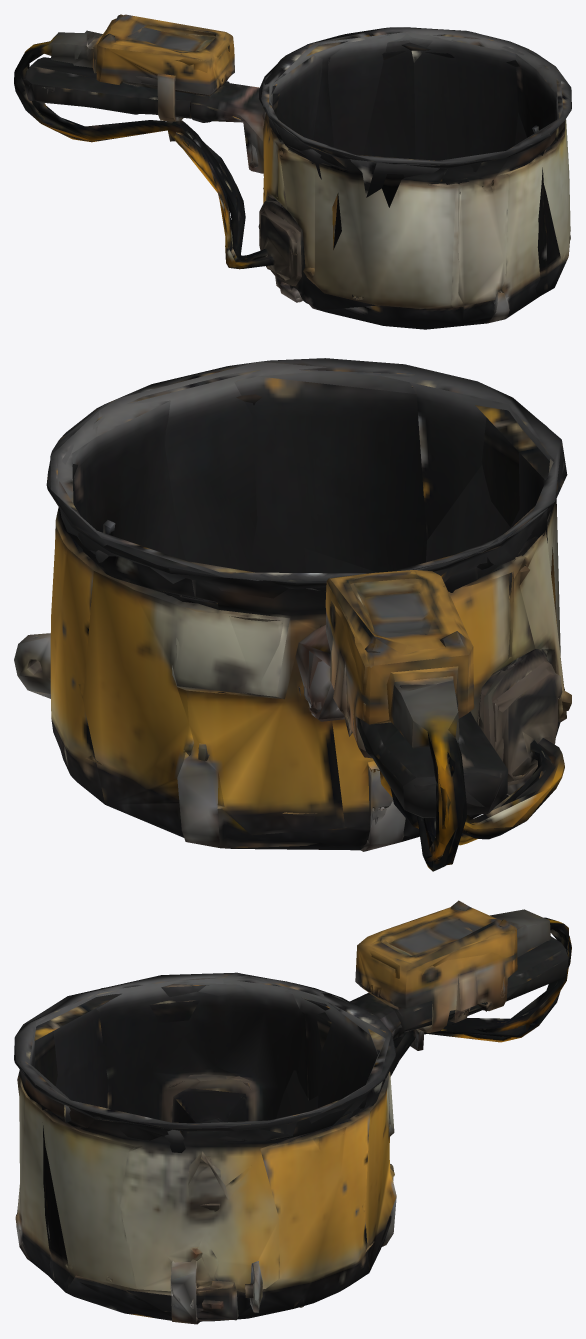
3 renders of one model, top to bottom at view 1: azimuth 30°, elevation 25°; view 2: azimuth 150°, elevation 25°; view 3: azimuth 270°, elevation 25°, orthographic. The views are drawn at different scales.
Visible parts, largest first — view 1: world; view 2: world; view 3: world.
Boxes of the visible parts, <box> form: world: <box>14,14,571,329</box>; world: <box>14,358,571,871</box>; world: <box>14,900,571,1324</box>.
Bounding box in the file's own units: 0.3791 × 0.1865 × 0.38.
1 material, 1 textured.
